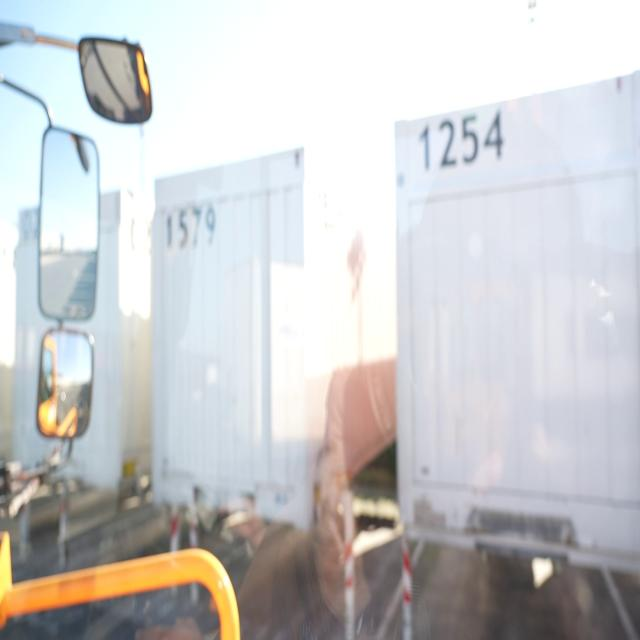Code: (419, 106, 506, 175), (163, 199, 222, 251)
